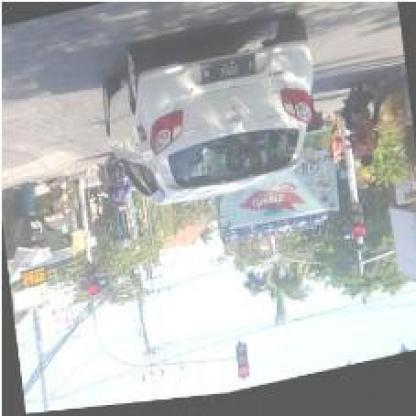red: (351, 206, 367, 245), (82, 260, 98, 297), (235, 345, 249, 384)
